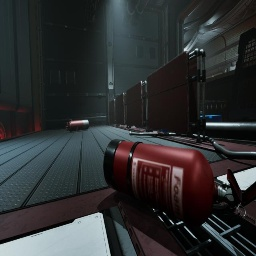FireExtinguisher ]: (103, 139, 256, 227)
NitrogenTank ,: (66, 120, 89, 132)
